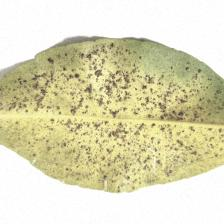canker: (64, 71, 158, 116)
